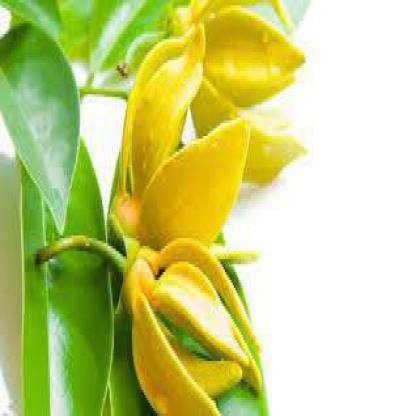Kenanga: (80, 59, 254, 415), (168, 1, 285, 208)
